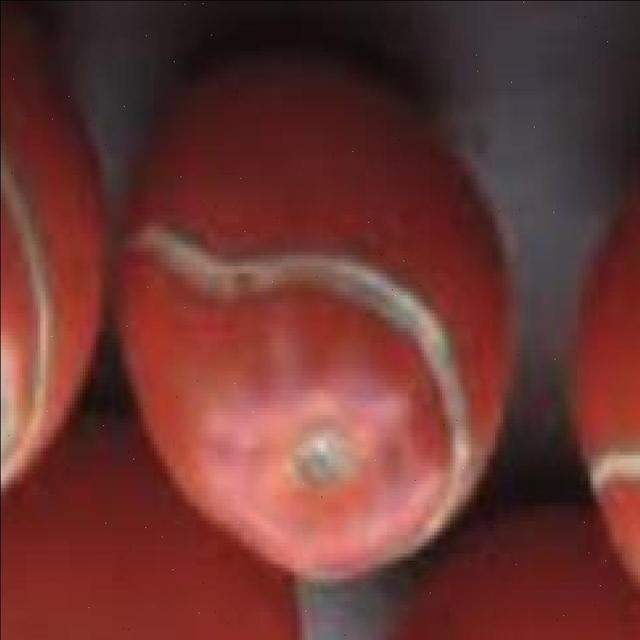Cracking Fruit: (24, 44, 409, 318)
